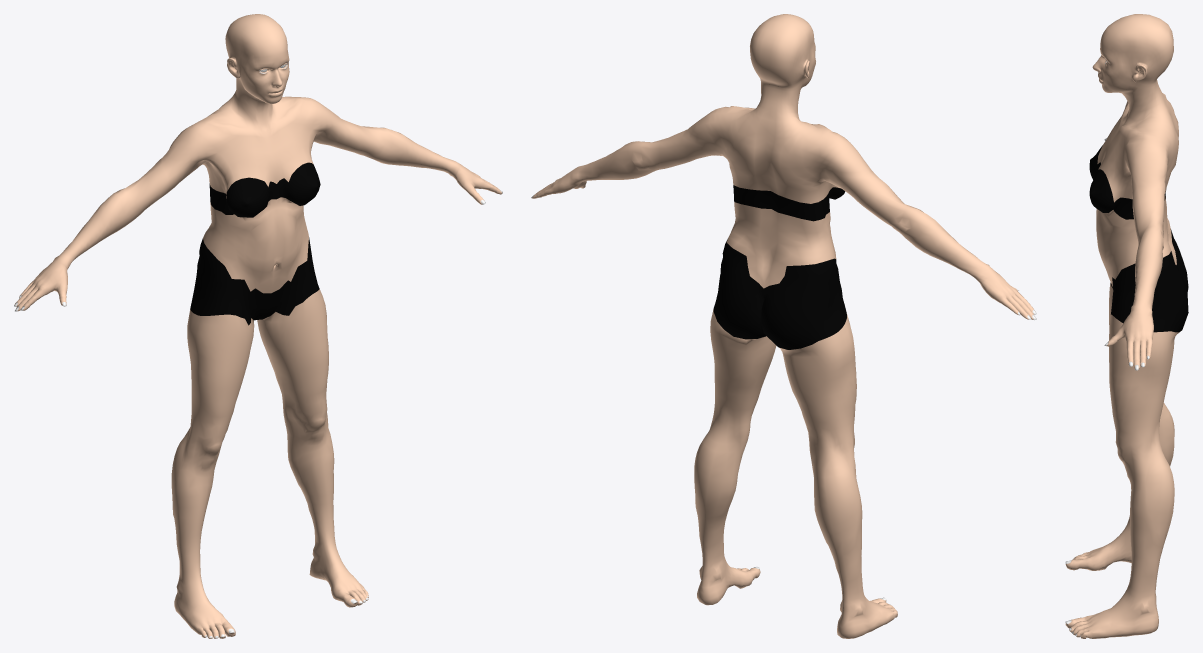
Rendered from Women_S.glb.
The picture shows the model from 3 angles, left to right: view 1: azimuth 30°, elevation 25°; view 2: azimuth 150°, elevation 25°; view 3: azimuth 270°, elevation 25°; orthographic projection. The views are drawn at different scales.
Visible parts, largest first — view 1: f_ca01; view 2: f_ca01; view 3: f_ca01.
Boxes of the visible parts, x1,y1,x2,y2 form: f_ca01: [14, 14, 502, 638]; f_ca01: [531, 14, 1036, 638]; f_ca01: [1065, 14, 1188, 638].
Bounding box in the file's own units: 1.48 × 1.68 × 0.3217.
10 materials, 1 textured.
